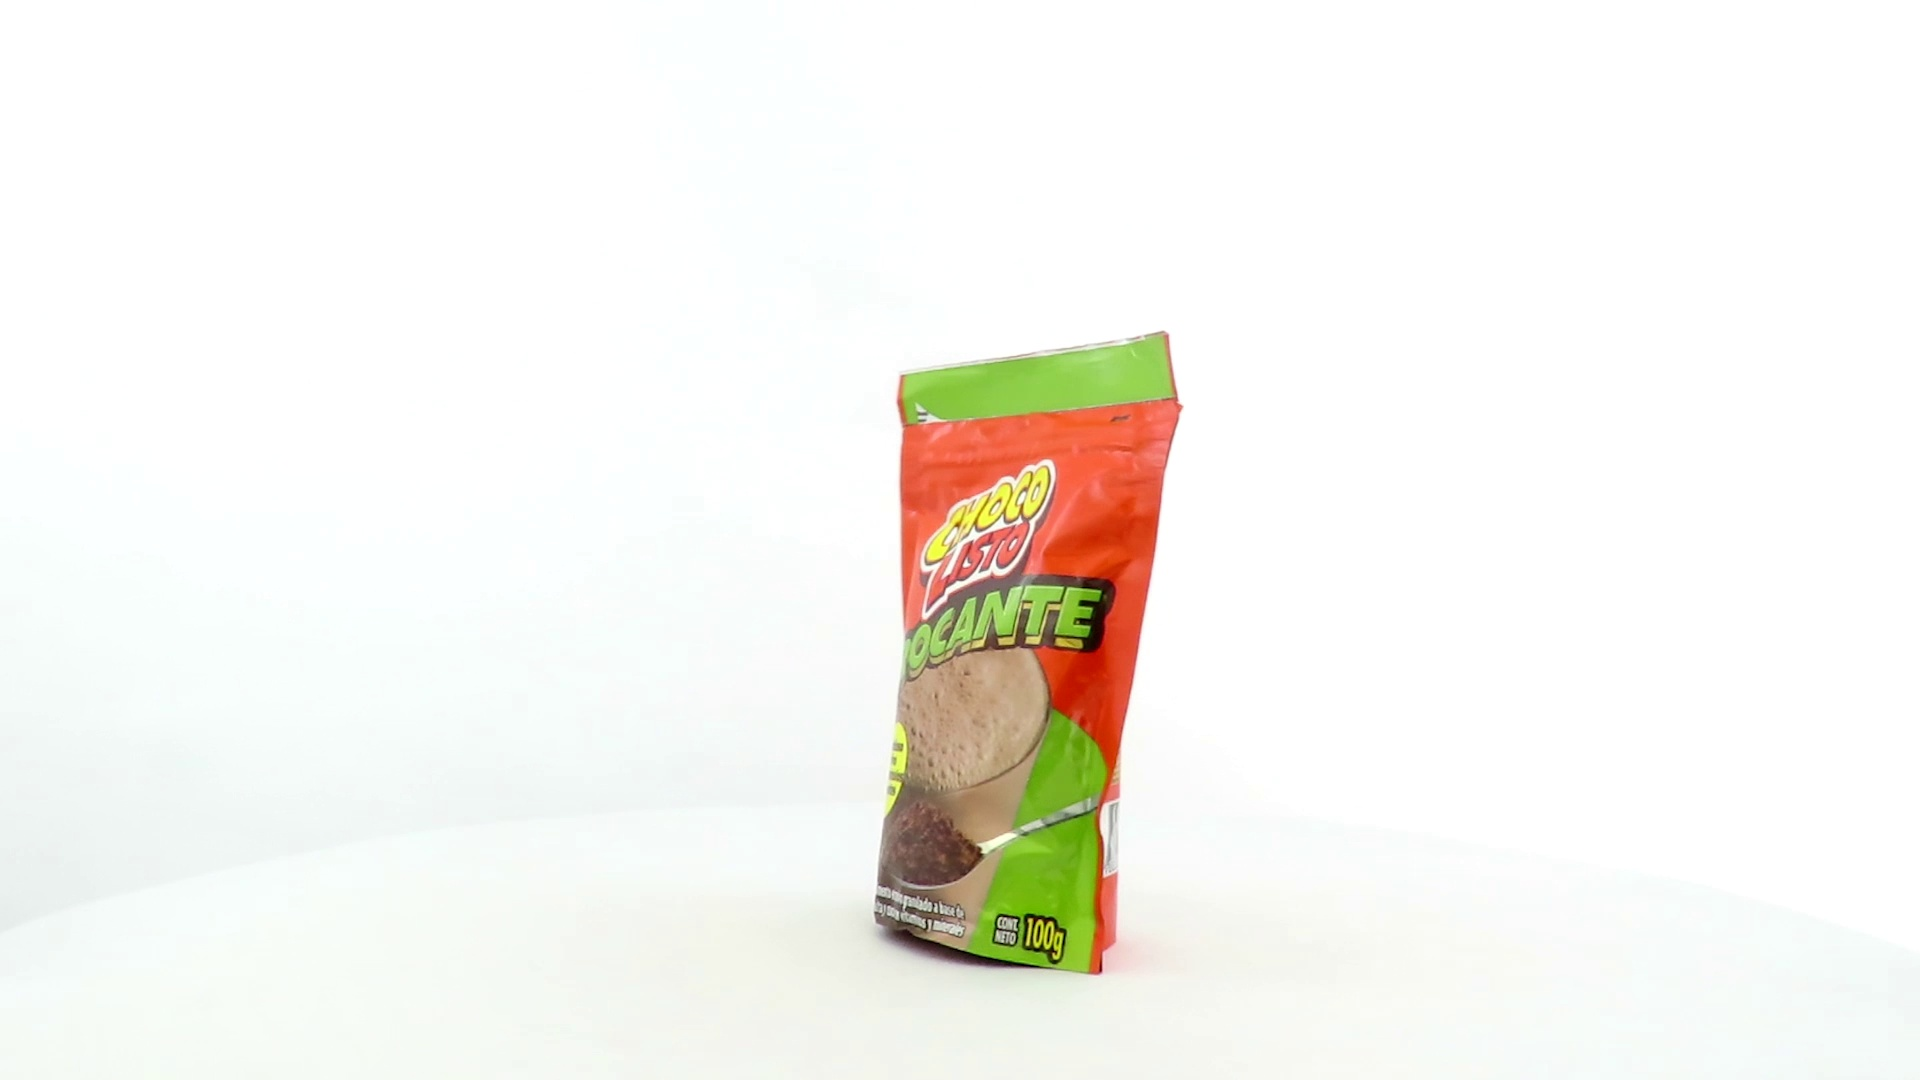COL0170102DYP10000: (868, 324, 1189, 982)
